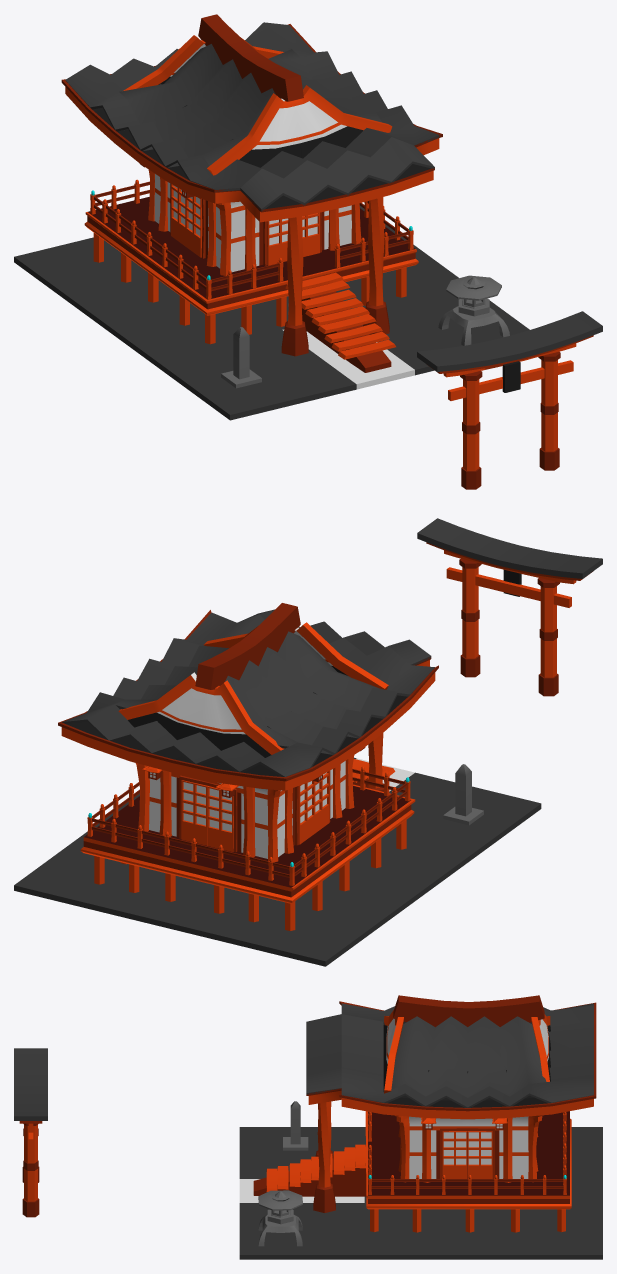
File: templo_1.fbx
The picture shows the model from 3 angles, top to bottom: view 1: azimuth 30°, elevation 25°; view 2: azimuth 150°, elevation 25°; view 3: azimuth 270°, elevation 25°; orthographic projection. The views are drawn at different scales.
Parts seen in each view (by area): view 1: pCube9, polySurface751, polySurface750, pasted__polySurface719, pasted__pasted__polySurface355, pasted__polySurface94, pasted__pCube5, pasted__polySurface1, pasted__polySurface119, pasted__pasted__polySurface390, pasted__polySurface215, pasted__pasted__polySurface389 (+8 smaller); view 2: pCube9, polySurface751, polySurface750, pasted__pasted__polySurface355, pasted__polySurface719, pasted__polySurface94, pasted__polySurface1, pasted__pCube5, pasted__polySurface215, pasted__polySurface119, pasted__polySurface91, pasted__polySurface92 (+5 smaller); view 3: pCube9, polySurface751, pasted__pasted__polySurface355, polySurface750, pasted__polySurface719, pasted__polySurface1, pasted__pCube5, pasted__polySurface94, pasted__pasted__polySurface389, pasted__escada_suporte, pasted__polySurface19, pasted__polySurface18 (+6 smaller).
Boxes of the visible parts, x1=… form: pCube9: x1=14, y1=205, x2=529, y2=420; polySurface751: x1=65, y1=22, x2=439, y2=211; polySurface750: x1=61, y1=24, x2=442, y2=222; pasted__polySurface719: x1=417, y1=311, x2=602, y2=489; pasted__pasted__polySurface355: x1=84, y1=197, x2=418, y2=315; pasted__polySurface94: x1=148, y1=170, x2=361, y2=275; pasted__pCube5: x1=198, y1=14, x2=303, y2=101; pasted__polySurface1: x1=154, y1=174, x2=351, y2=272; pasted__polySurface119: x1=90, y1=179, x2=413, y2=299; pasted__pasted__polySurface390: x1=281, y1=216, x2=308, y2=356; pasted__polySurface215: x1=93, y1=181, x2=409, y2=291; pasted__pasted__polySurface389: x1=363, y1=197, x2=389, y2=334; pCube9: x1=14, y1=757, x2=541, y2=966; polySurface751: x1=62, y1=609, x2=434, y2=776; polySurface750: x1=58, y1=610, x2=438, y2=790; pasted__pasted__polySurface355: x1=80, y1=784, x2=415, y2=903; pasted__polySurface719: x1=417, y1=518, x2=602, y2=696; pasted__polySurface94: x1=135, y1=755, x2=354, y2=862; pasted__polySurface1: x1=149, y1=761, x2=345, y2=858; pasted__pCube5: x1=195, y1=603, x2=300, y2=689; pasted__polySurface215: x1=91, y1=769, x2=406, y2=877; pasted__polySurface119: x1=87, y1=766, x2=410, y2=885; pasted__polySurface91: x1=181, y1=780, x2=207, y2=845; pasted__polySurface92: x1=207, y1=786, x2=233, y2=851; pCube9: x1=239, y1=1127, x2=602, y2=1259; polySurface751: x1=306, y1=1003, x2=593, y2=1107; pasted__pasted__polySurface355: x1=365, y1=1111, x2=571, y2=1209; polySurface750: x1=306, y1=1001, x2=596, y2=1119; pasted__polySurface719: x1=14, y1=1048, x2=47, y2=1217; pasted__polySurface1: x1=409, y1=1116, x2=528, y2=1178; pasted__pCube5: x1=393, y1=995, x2=544, y2=1027; pasted__polySurface94: x1=394, y1=1115, x2=543, y2=1182; pasted__pasted__polySurface389: x1=313, y1=1101, x2=335, y2=1212; pasted__escada_suporte: x1=253, y1=1159, x2=366, y2=1196; pasted__polySurface19: x1=467, y1=1131, x2=492, y2=1178; pasted__polySurface18: x1=442, y1=1131, x2=467, y2=1178.
Size of the model in its own units: 12 by 8.76 by 23.33.
